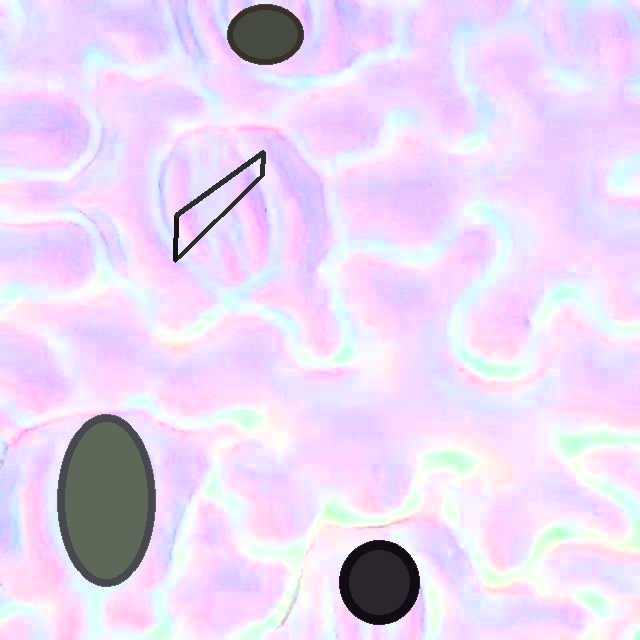close: (57, 414, 155, 586), (175, 151, 263, 261), (340, 540, 418, 624), (227, 4, 303, 64)
